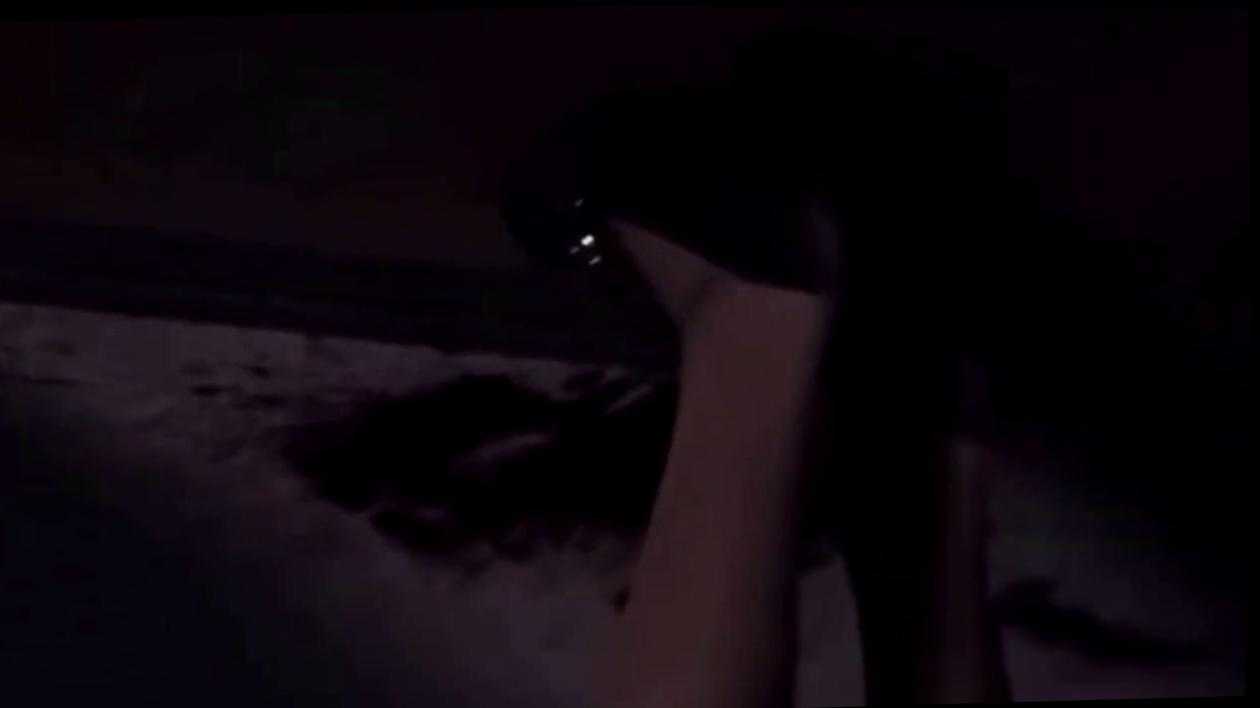Fire: (282, 376, 678, 576)
